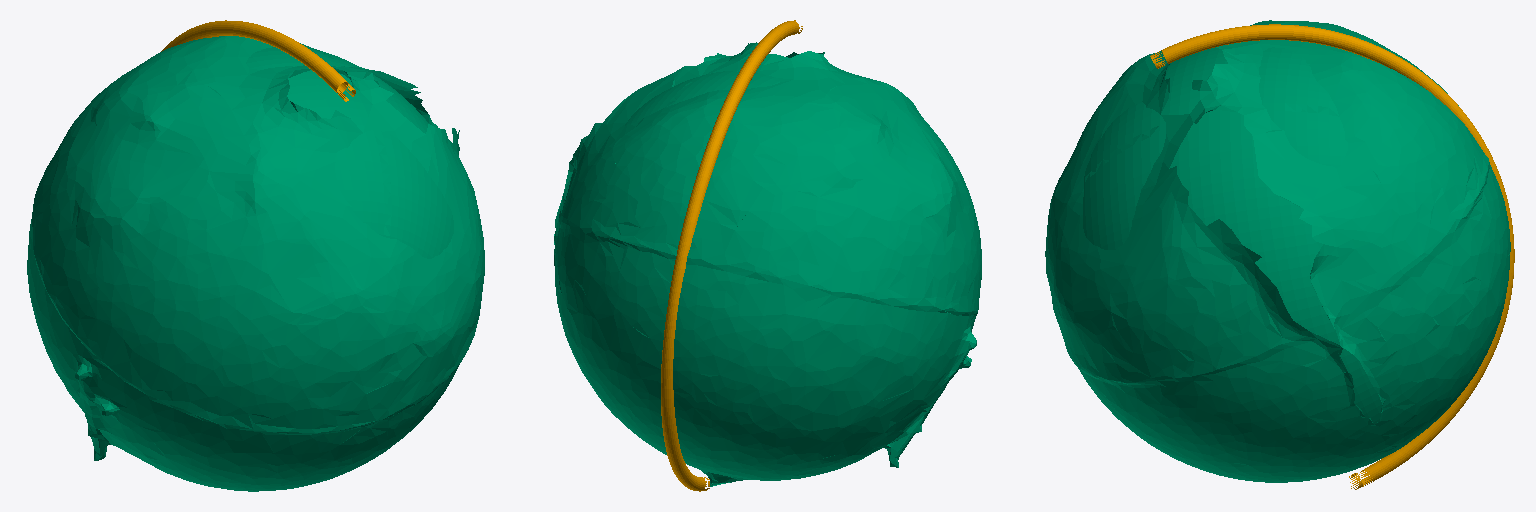
The robot description file, URDF, robot "globe":
<?xml version="1.0"?>
<robot name="globe">
  <link name ="rb0">
    <visual>
      <origin xyz='0.125412 0.002854 -0.197627' rpy='1.723450 -1.341989 -1.522147'/>
      <geometry>
        <mesh filename="meshes/globe_base.obj"  scale="1 1 1" />
      </geometry>
    </visual>

     <collision>
      <origin xyz='0.125412 0.002854 -0.197627' rpy='1.723450 -1.341989 -1.522147'/>
      <geometry>
        <mesh filename="meshes/globe_base.obj"  scale="1 1 1" />
      </geometry>
    </collision>

  </link>
  <joint name="j_0_1" type="revolute">
    <parent link="rb0"/>
    <child link="rb1"/>
    <origin xyz="0.112844837585 0.0549196945724 -0.227765200614" rpy="0 0 0 "/>
    <axis xyz="0.0740405494663 -0.420722793517 0.904162777408"/>
    <limit effort="30" velocity="1.0" lower="-3.1416" upper="3.1416"/>
  </joint>
  <joint name="j_0_fixed" type="fixed">
    <parent link="rb1"/>
    <child link="rb1_marker"/>
      <origin xyz="-0.103521448607 0.143286190463 0.0739459001654" rpy="-1.80412822586 -0.024485887913 1.10441133552"/>
    <limit effort="30" velocity="1.0" lower="-3.1416" upper="3.1416"/>
  </joint>
  <link name ="rb1">
  </link>
  <link name ="rb1_marker">
    <visual>
      <origin xyz='-0.125441 0.088169 -0.129482' rpy='-1.936752 0.767602 1.007135'/>
      <geometry>
        <mesh filename="meshes/globe_sphere.obj"  scale="1 1 1" />
      </geometry>
    </visual>

    <collision>
      <origin xyz='-0.125441 0.088169 -0.129482' rpy='-1.936752 0.767602 1.007135'/>
      <geometry>
        <mesh filename="meshes/globe_sphere.obj"  scale="1 1 1" />
      </geometry>
    </collision>

  </link>
</robot>

--- Facts derived from the render (not from the file) ---
Views: 3 orthographic renders of the robot side by side, from view 1: azimuth 30°, elevation 25°; view 2: azimuth 150°, elevation 25°; view 3: azimuth 270°, elevation 25°.
Model globe with 3 links and 2 joints (1 revolute, 1 fixed), rooted at rb0, posed all joints at 0.
Links seen in each view (by area): view 1: rb1_marker, rb0; view 2: rb1_marker, rb0; view 3: rb1_marker, rb0.
Boxes of the visible links, x1,y1,x2,y2 form: rb1_marker: (27,36,484,491); rb0: (161,20,355,101); rb1_marker: (554,42,981,486); rb0: (661,20,802,491); rb1_marker: (1045,20,1510,482); rb0: (1150,24,1514,489).
Size in the robot's own frame: 0.3053 by 0.3033 by 0.3254 metres.
Meshes: 2 distinct files referenced, 2 mesh visuals loaded (2 OBJ).